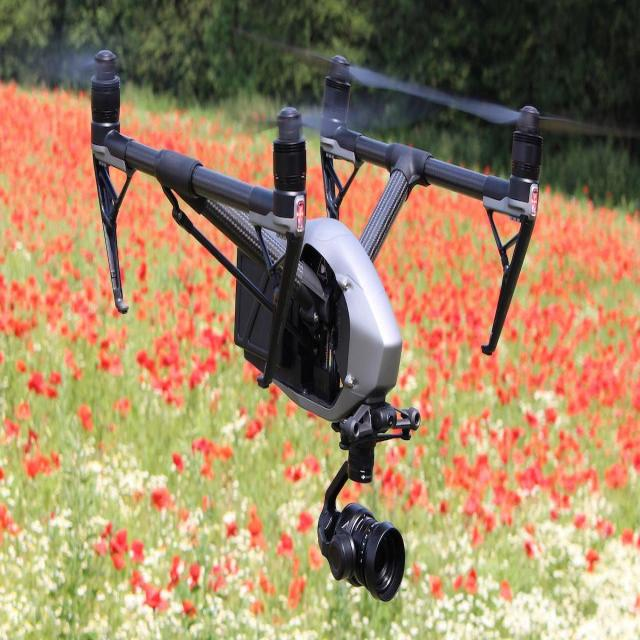drone: (33, 29, 640, 608)
